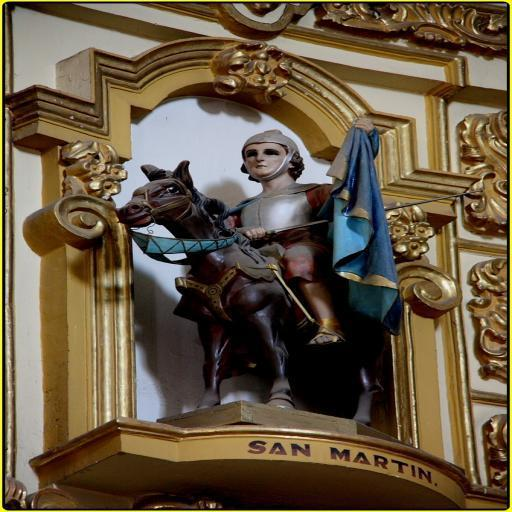horse: (112, 154, 390, 426)
